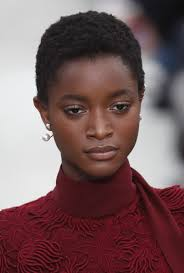person: (33, 8, 146, 179)
